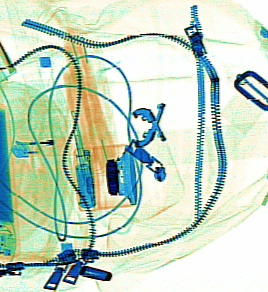lighter: (9, 130, 79, 158)
